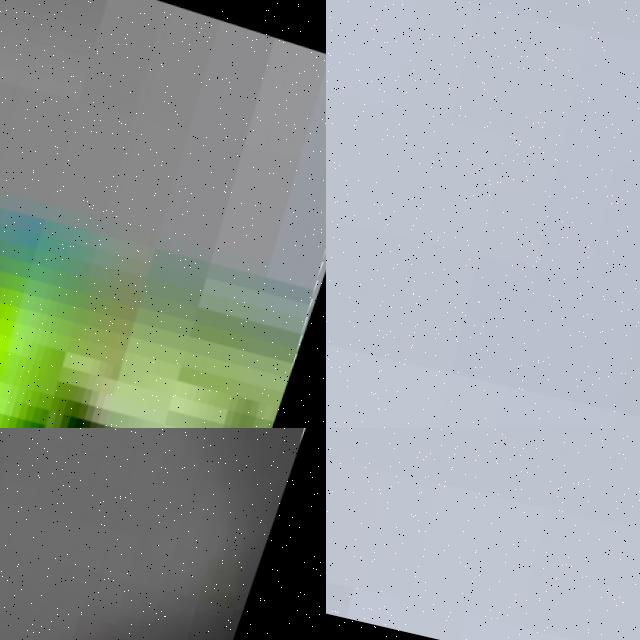0: (0, 0, 326, 428)
drone: (0, 428, 326, 640)
